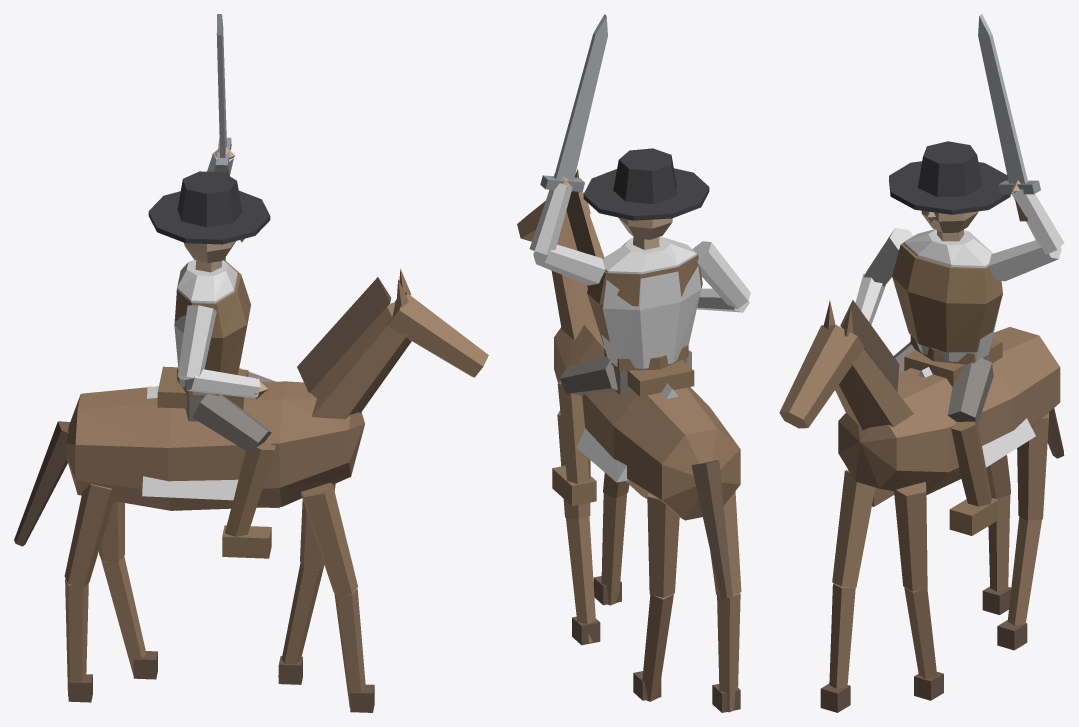
Rendered from hakkapeliitta.glb.
3 views of the same model, side by side, from view 1: azimuth 30°, elevation 25°; view 2: azimuth 150°, elevation 25°; view 3: azimuth 270°, elevation 25° (orthographic).
Visible parts, largest first — view 1: LOD0; view 2: LOD0; view 3: LOD0.
Part boxes in pixels (x1,y1,x2,y2): LOD0: (14,14,488,712); LOD0: (517,14,750,712); LOD0: (779,14,1064,712).
Size of what is drawn, in the model's own units: 0.9264 by 1.7 by 0.667.
